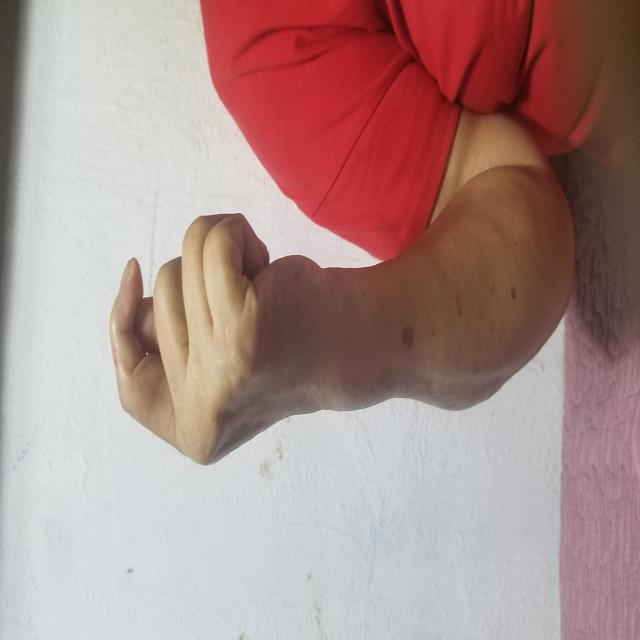T: (172, 108, 428, 324)
